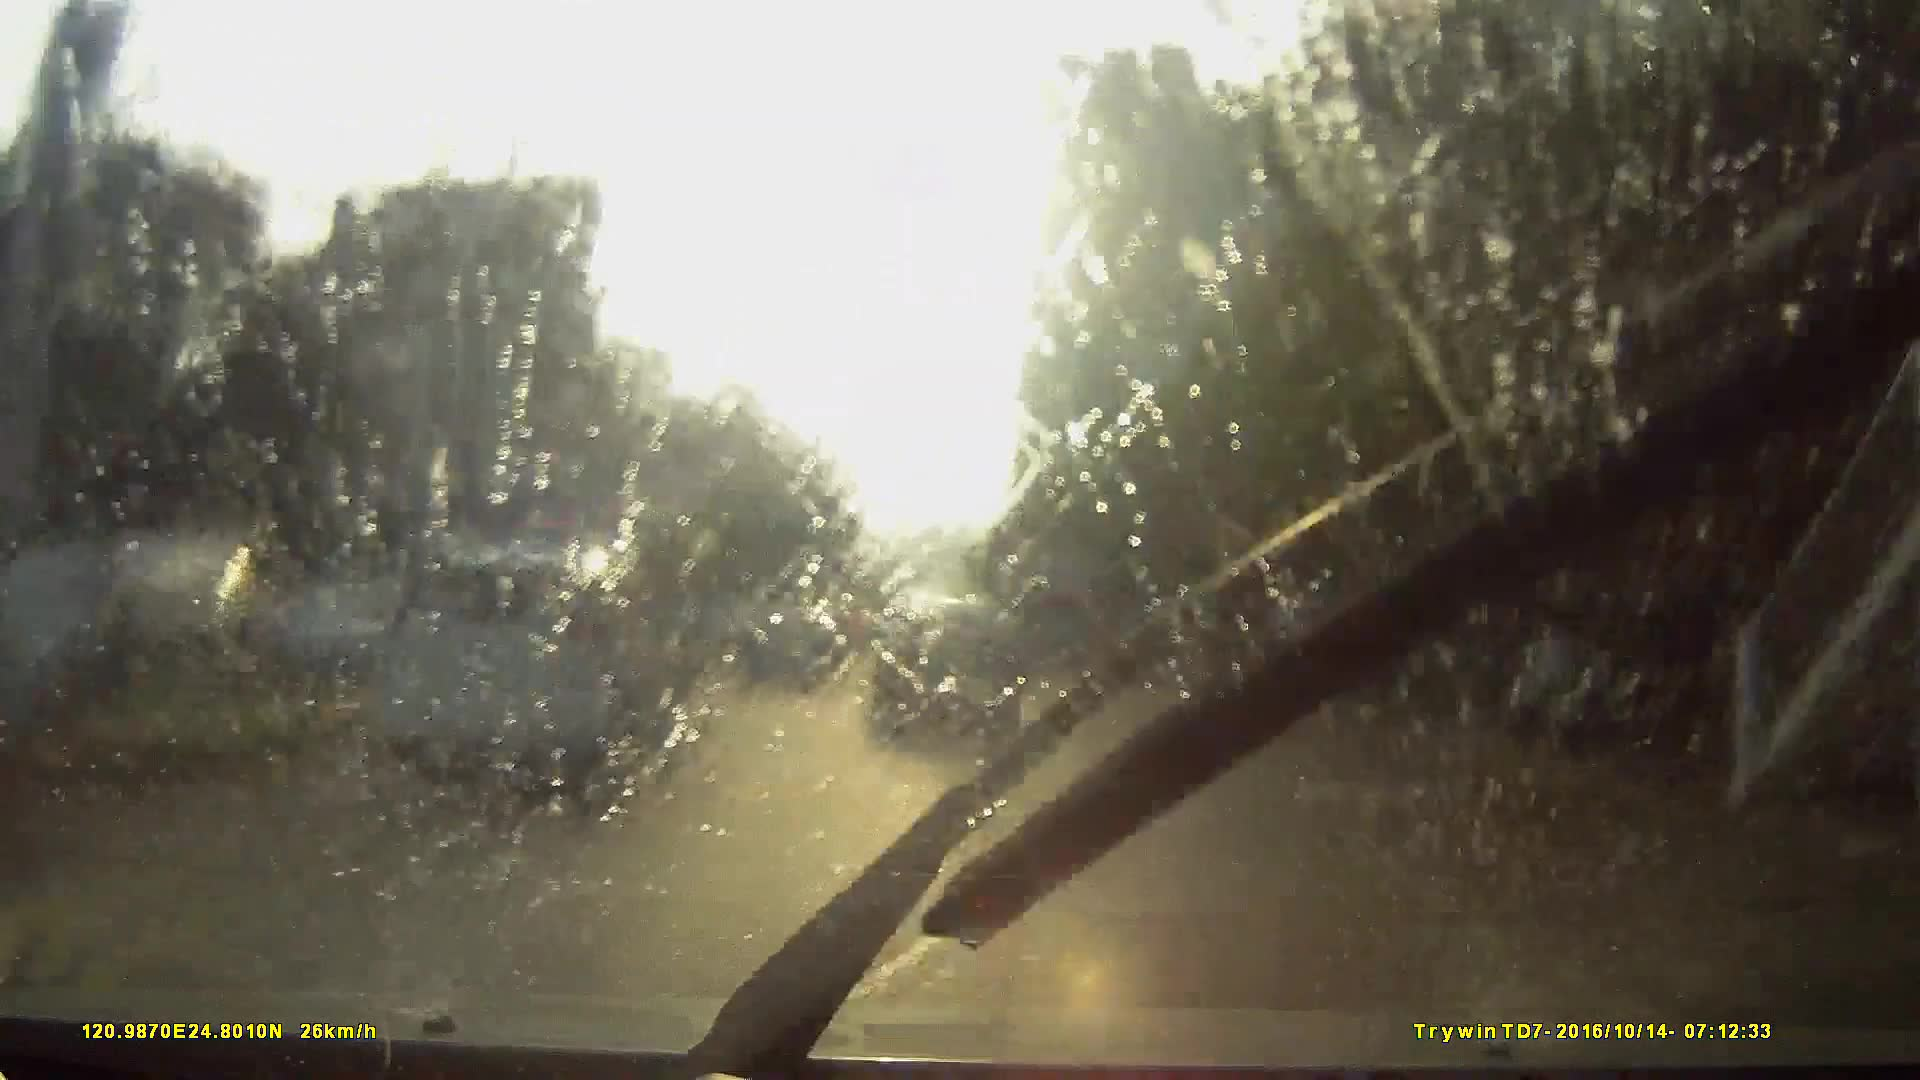vehicle: (251, 556, 684, 868), (382, 545, 698, 793), (475, 489, 720, 670), (866, 596, 1023, 757), (996, 556, 1101, 683), (736, 611, 845, 695), (866, 638, 915, 687)
